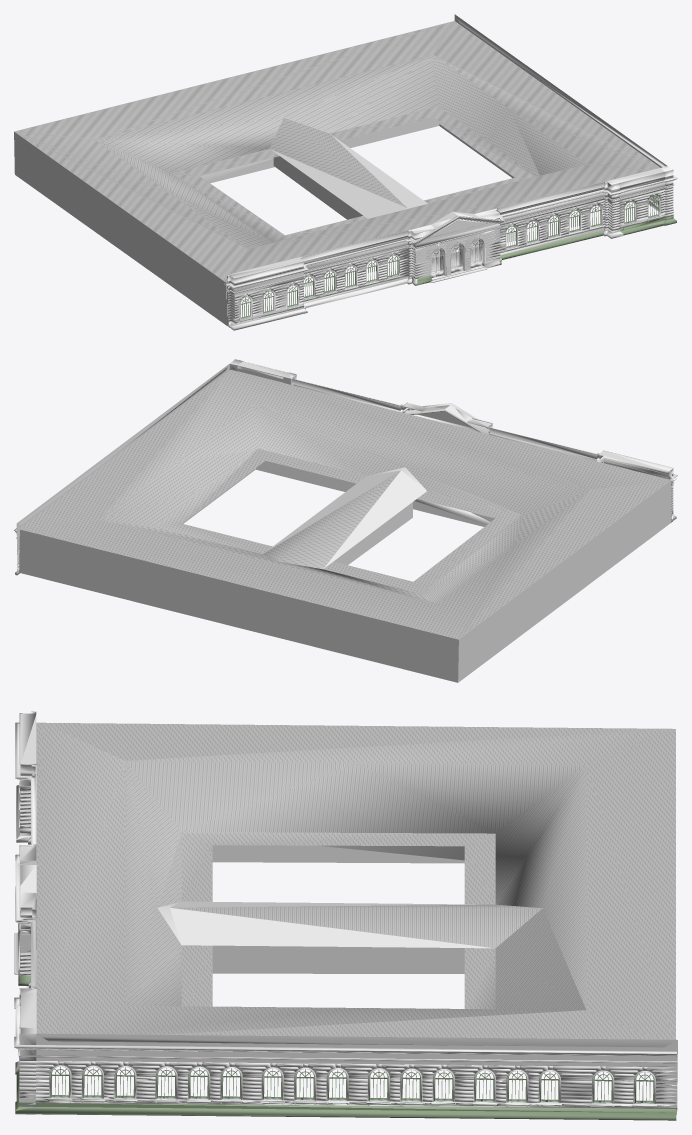
Rendered from escuela-rawson.glb.
3 renders of one model, top to bottom at view 1: azimuth 30°, elevation 25°; view 2: azimuth 150°, elevation 25°; view 3: azimuth 270°, elevation 25°, orthographic. The views are drawn at different scales.
Parts seen in each view (by area): view 1: Escuela Rawson 3; view 2: Escuela Rawson 3; view 3: Escuela Rawson 3.
Boxes of the visible parts, x1,y1,x2,y2 form: Escuela Rawson 3: (14, 14, 677, 330); Escuela Rawson 3: (14, 359, 677, 682); Escuela Rawson 3: (14, 711, 677, 1120).
Size of the model in its own units: 59.22 by 8.17 by 50.6.
5 materials, 2 textured.
